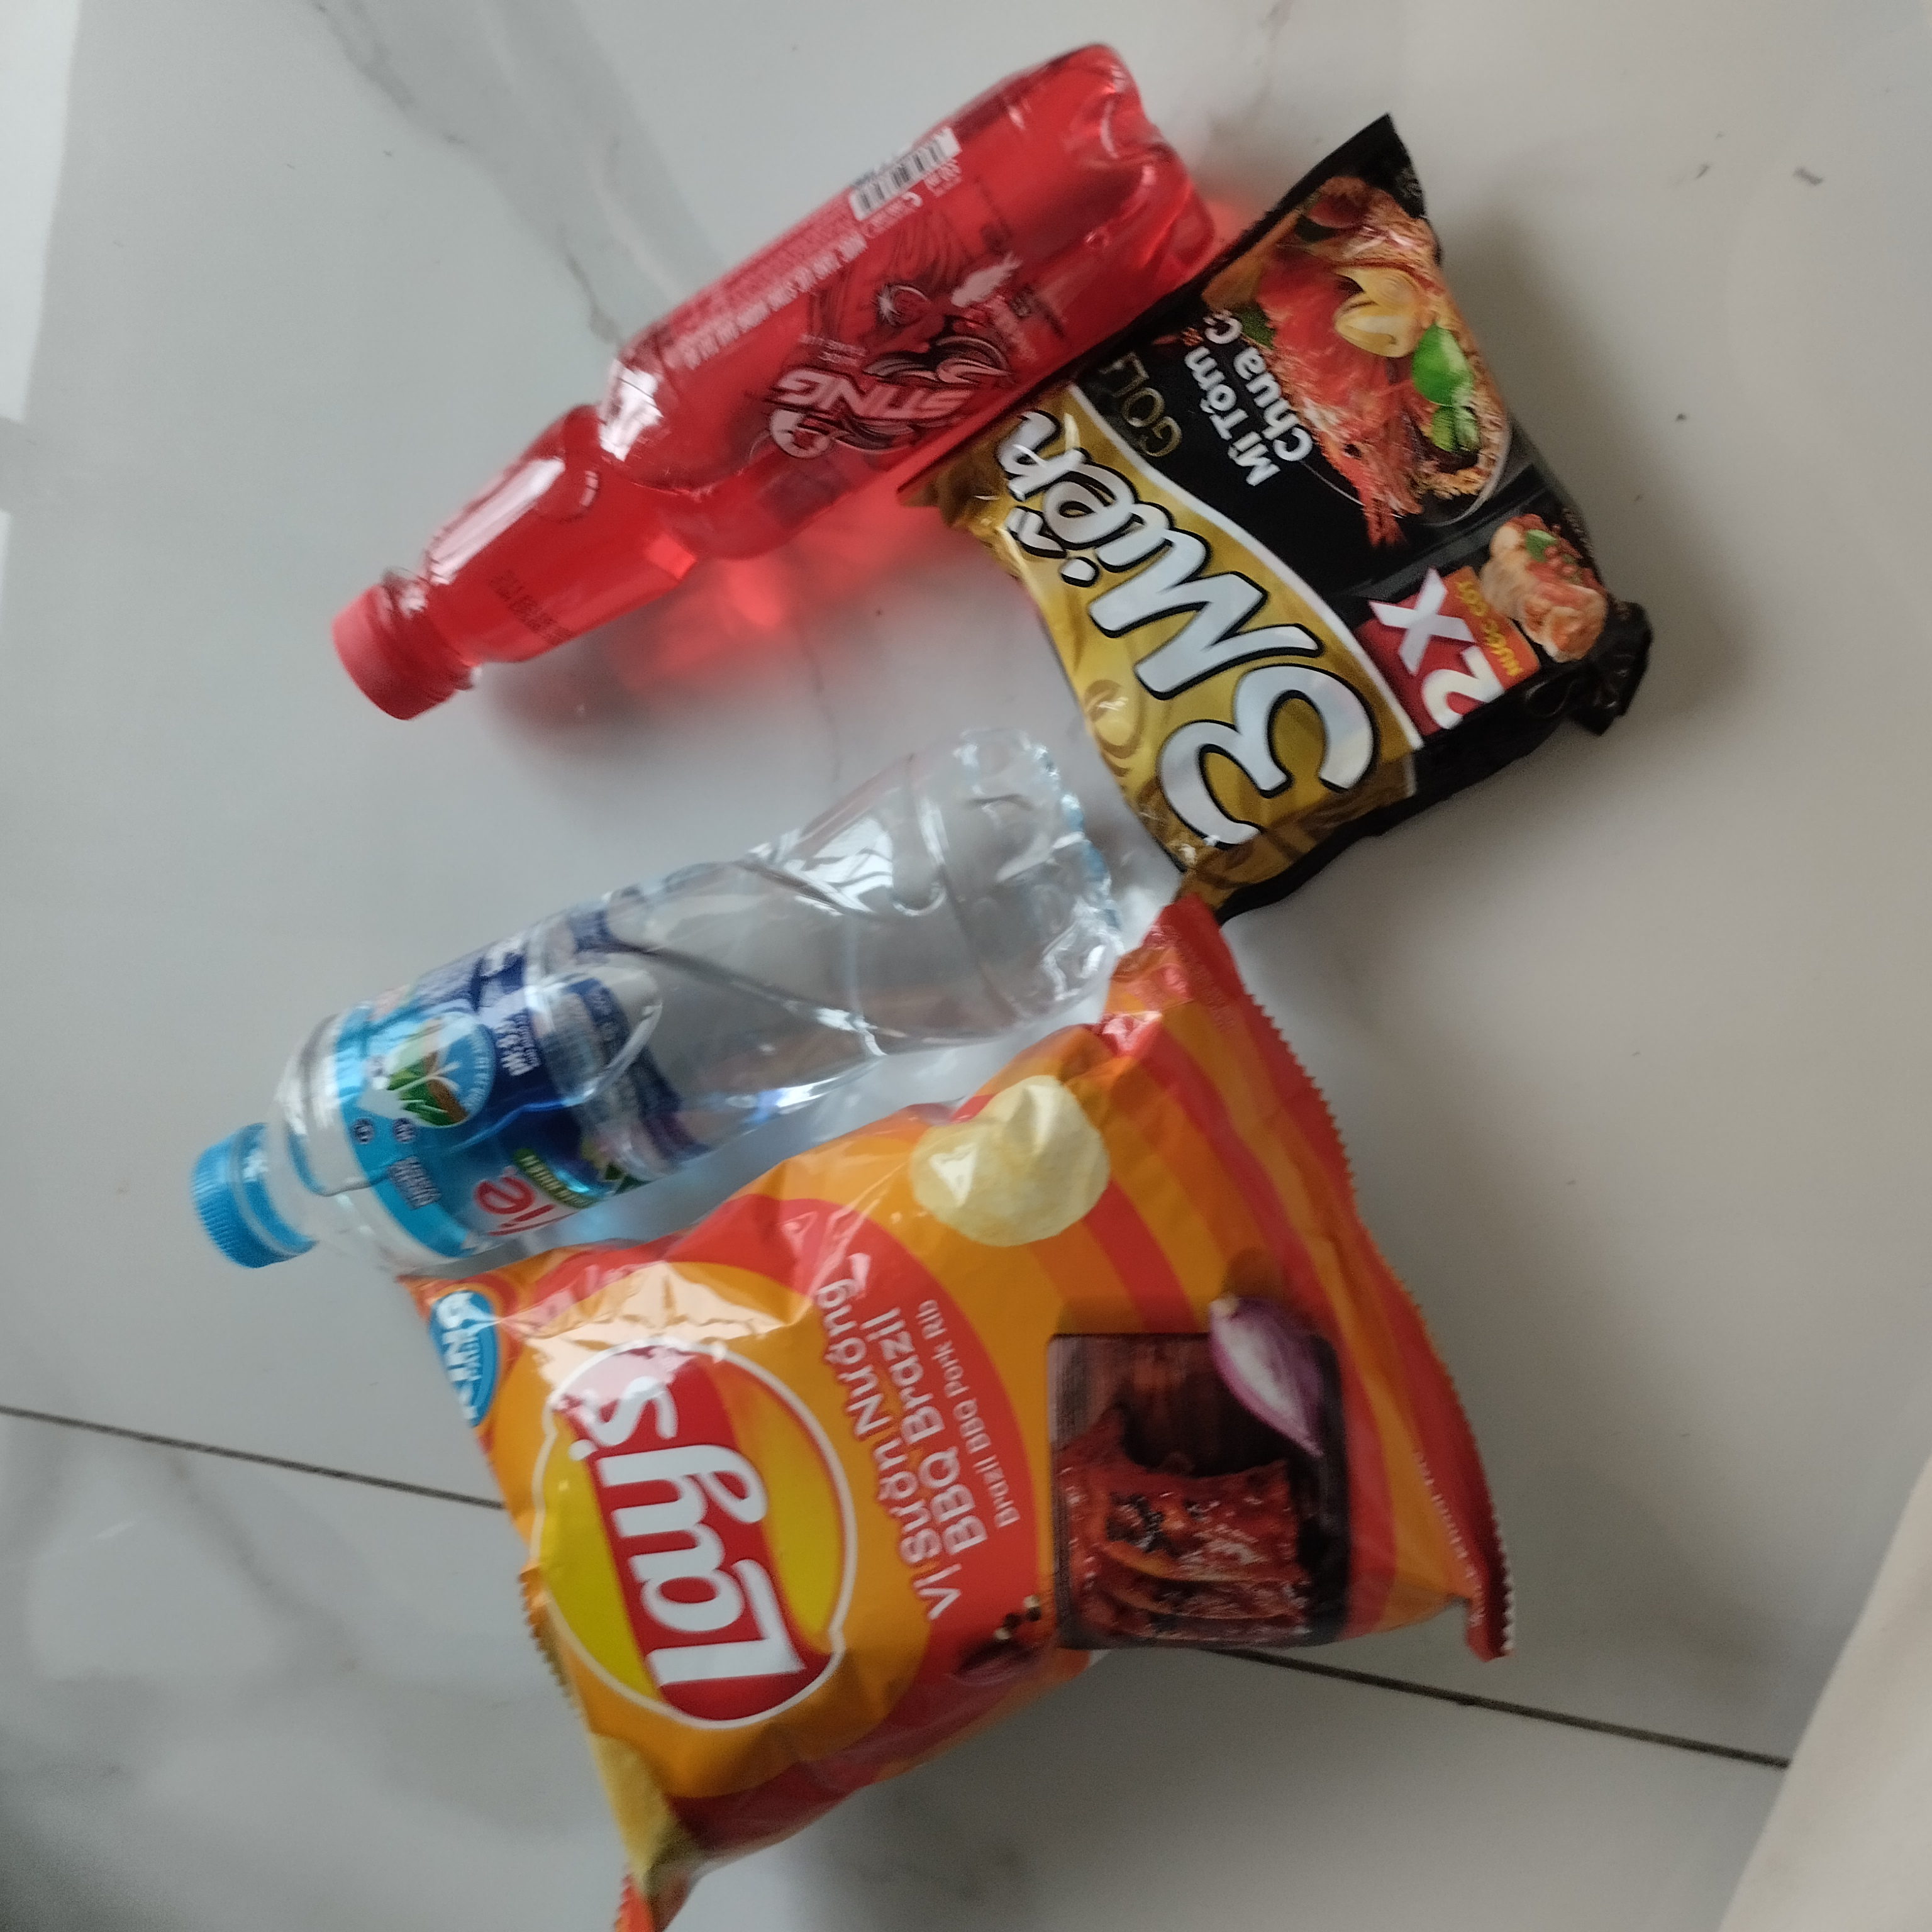3mien: (888, 119, 1654, 927)
Lavie: (170, 736, 1136, 1269)
Lays: (379, 892, 1523, 1932)
Sting: (324, 35, 1208, 724)
